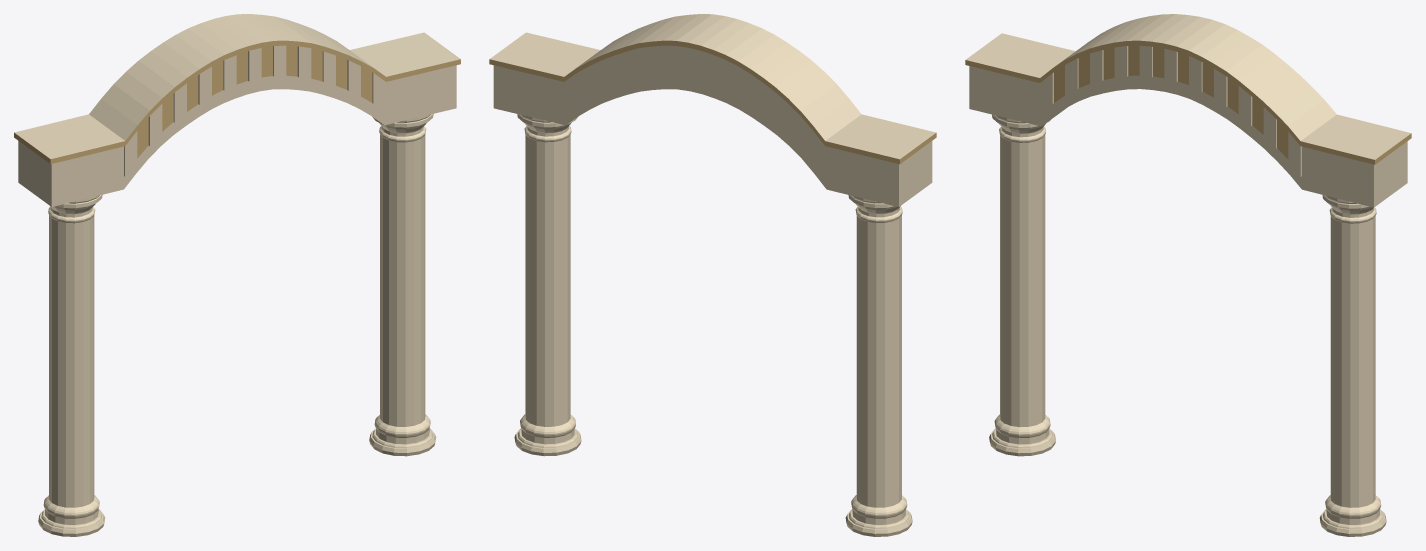
File: m-y-door.fbx
3 views of the same model, side by side, from view 1: azimuth 30°, elevation 25°; view 2: azimuth 150°, elevation 25°; view 3: azimuth 330°, elevation 25° (orthographic).
Parts seen in each view (by area): view 1: Plane; view 2: Plane; view 3: Plane.
Part boxes in pixels (box(x1,y1,x2,y2)): Plane: box(14, 14, 460, 536); Plane: box(489, 14, 936, 536); Plane: box(965, 14, 1411, 536).
Size of the model in its own units: 3.13 by 3.3 by 0.484.
